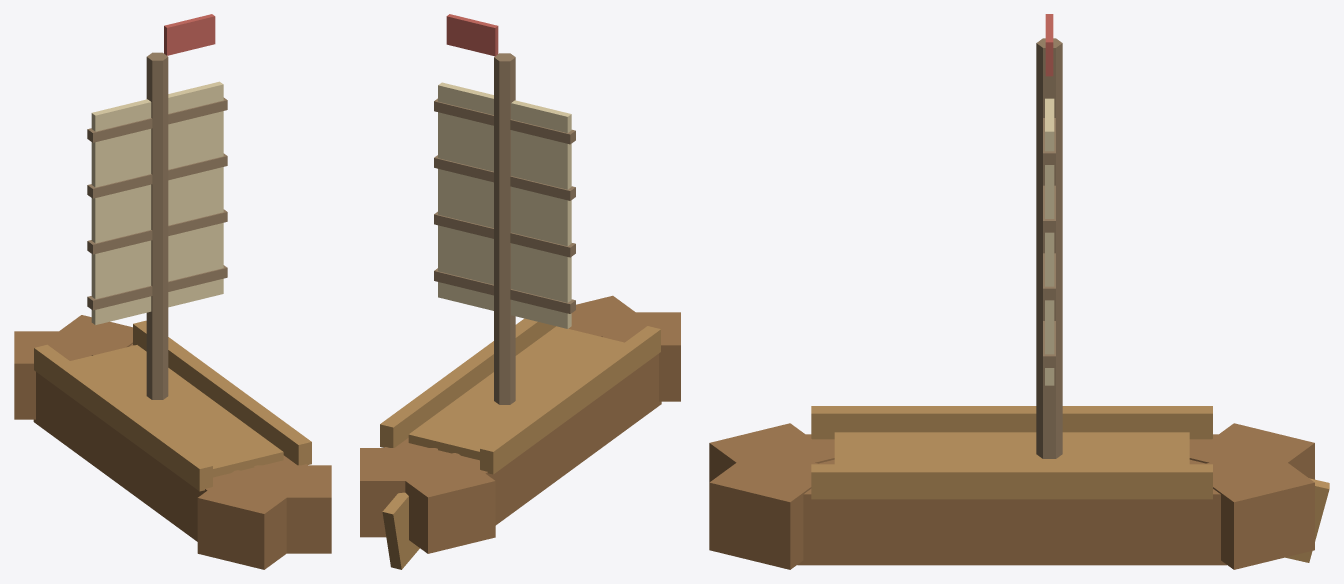
Rendered from troop-small-boat.glb.
The picture shows the model from 3 angles, left to right: view 1: azimuth 30°, elevation 25°; view 2: azimuth 150°, elevation 25°; view 3: azimuth 270°, elevation 25°; orthographic projection. The views are drawn at different scales.
Visible parts, largest first — view 1: sail, deck, body, bow_l, mast, gunwale_l, gunwale_r, bow_r, stern_l, stern_r, sail_flag; view 2: sail, deck, body, stern_l, mast, gunwale_l, gunwale_r, stern_r, bow_l, rudder, sail_flag, bow_r; view 3: body, gunwale_r, deck, gunwale_l, bow_r, stern_r, mast, bow_l, stern_l, sail.
Boxes of the visible parts, bbox=[...] form: sail: bbox=[87, 81, 227, 324]; deck: bbox=[70, 345, 283, 477]; body: bbox=[33, 344, 307, 541]; bow_l: bbox=[197, 470, 301, 569]; mast: bbox=[146, 52, 168, 399]; gunwale_l: bbox=[34, 344, 212, 491]; gunwale_r: bbox=[133, 320, 311, 465]; bow_r: bbox=[254, 465, 331, 553]; stern_l: bbox=[14, 331, 91, 419]; stern_r: bbox=[43, 315, 132, 355]; sail_flag: bbox=[164, 14, 215, 55]; sail: bbox=[434, 82, 575, 328]; deck: bbox=[408, 326, 624, 460]; body: bbox=[384, 353, 661, 525]; stern_l: bbox=[405, 453, 495, 553]; mast: bbox=[494, 53, 515, 404]; gunwale_l: bbox=[480, 326, 660, 474]; gunwale_r: bbox=[380, 318, 555, 447]; stern_r: bbox=[360, 448, 437, 537]; bow_l: bbox=[603, 312, 680, 401]; rudder: bbox=[382, 492, 419, 569]; sail_flag: bbox=[446, 14, 498, 56]; bow_r: bbox=[568, 295, 649, 336]; body: bbox=[797, 434, 1226, 565]; gunwale_r: bbox=[811, 464, 1212, 499]; deck: bbox=[834, 432, 1189, 464]; gunwale_l: bbox=[811, 406, 1212, 439]; bow_r: bbox=[709, 460, 820, 569]; stern_r: bbox=[1204, 461, 1314, 569]; mast: bbox=[1036, 38, 1062, 458]; bow_l: bbox=[709, 423, 834, 482]; stern_l: bbox=[1189, 423, 1314, 479]; sail: bbox=[1043, 98, 1055, 385].
Bounding box in the file's own units: 0.101 × 0.3255 × 0.3321.
